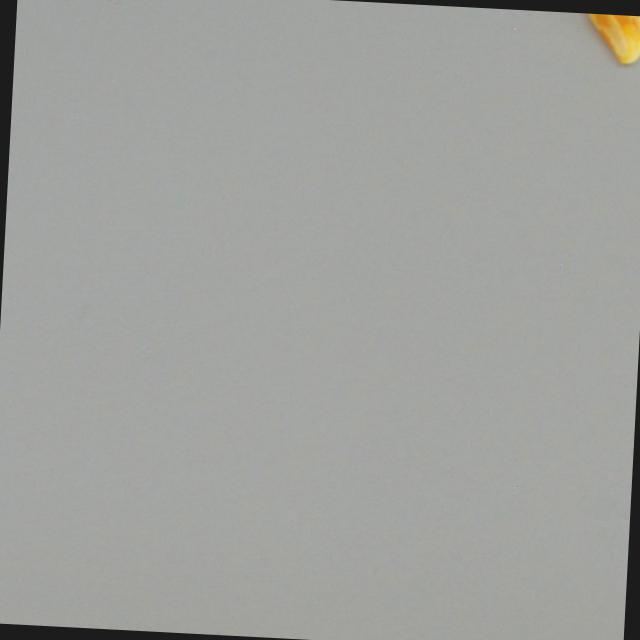dañado: (577, 13, 640, 75)
